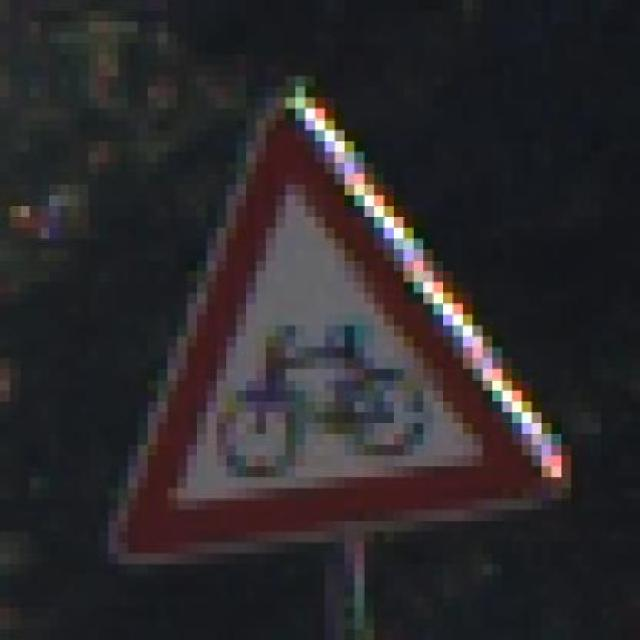CYCLE ROUTE AHEAD WARNING: (88, 87, 581, 553)
